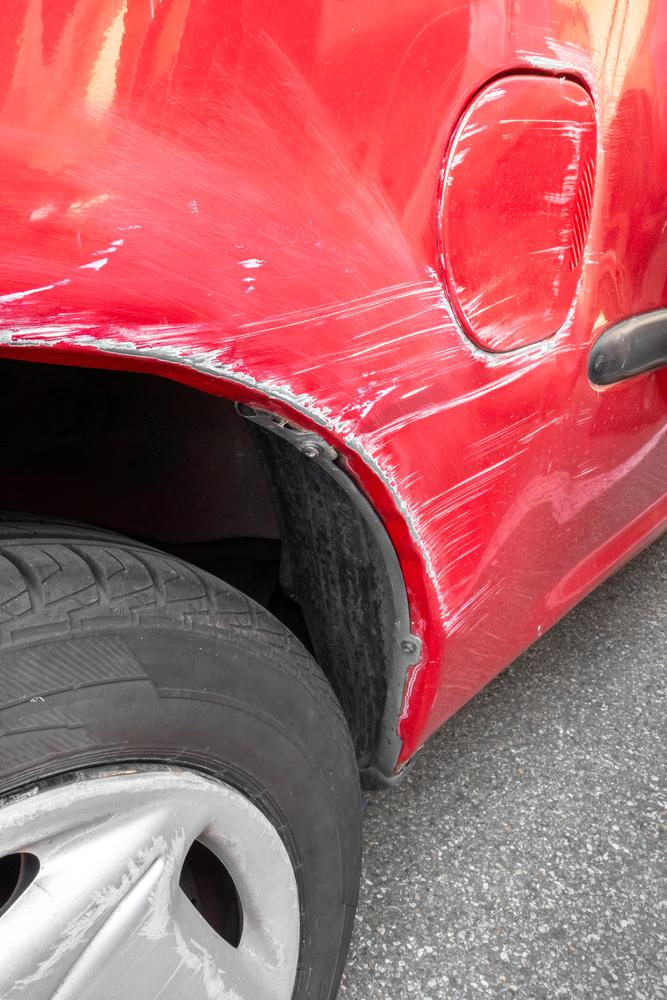scratch: (0, 31, 619, 638), (0, 829, 251, 1000), (444, 74, 598, 349)
